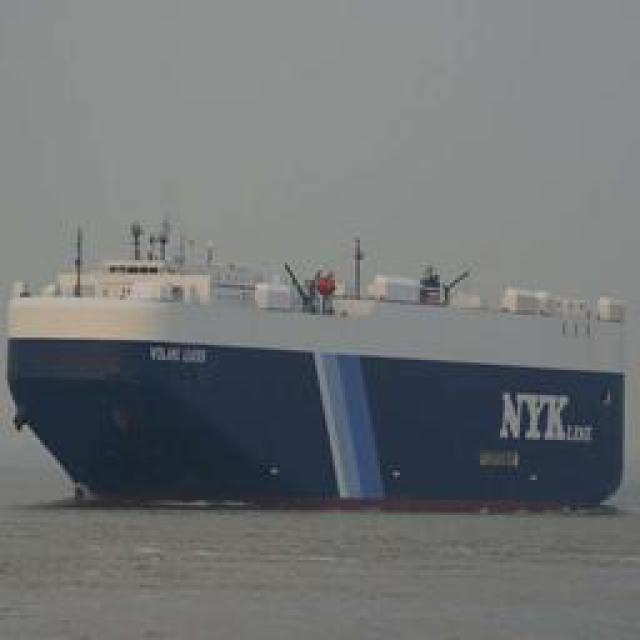Ship: (1, 176, 640, 526)
